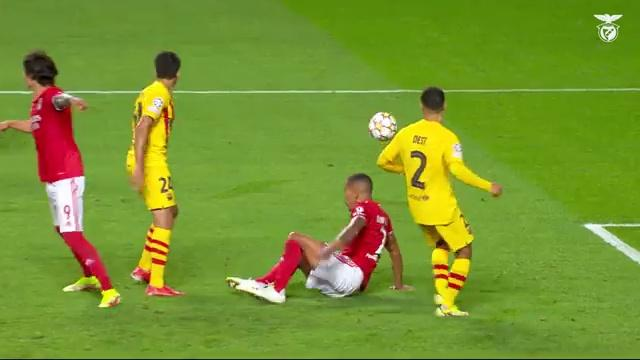football: (368, 112, 396, 140)
player: (0, 51, 119, 307), (377, 87, 501, 315), (226, 173, 411, 302), (126, 51, 183, 295)
